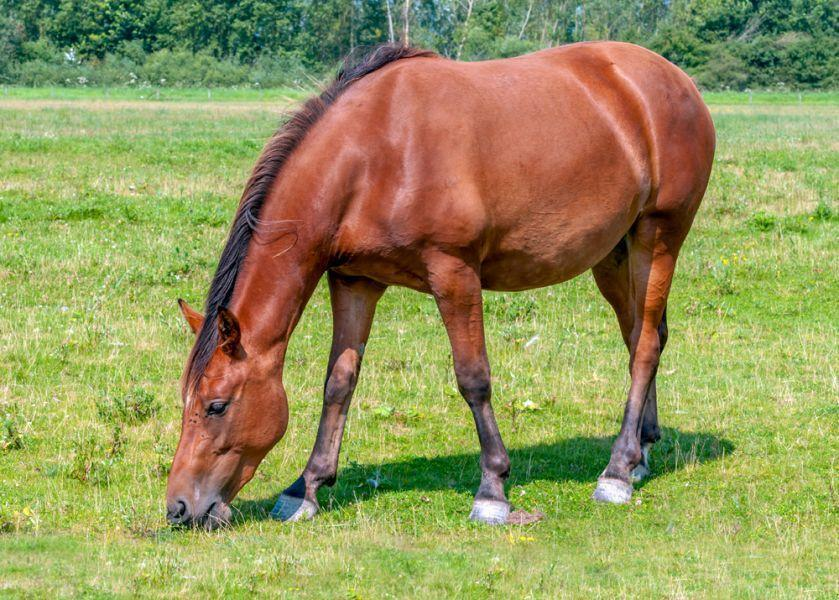horse: (155, 30, 726, 537)
